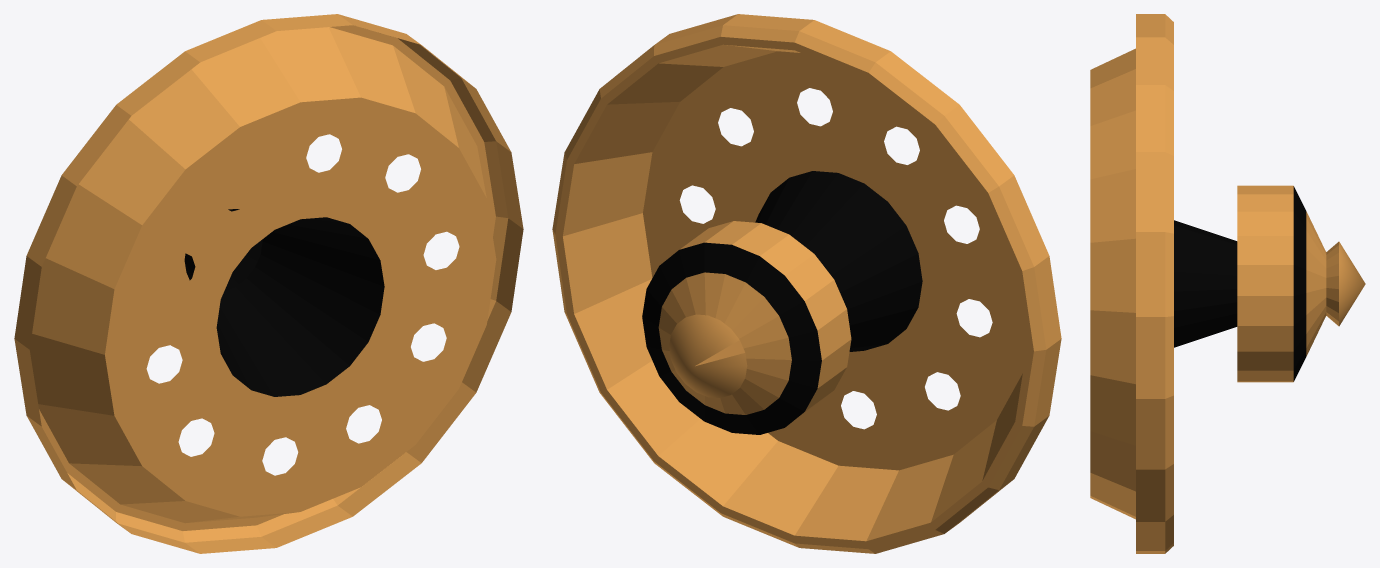
File: Ring7.fbx
The picture shows the model from 3 angles, left to right: view 1: azimuth 30°, elevation 25°; view 2: azimuth 150°, elevation 25°; view 3: azimuth 270°, elevation 25°; orthographic projection. The views are drawn at different scales.
Visible parts, largest first — view 1: polySurface14; view 2: polySurface14; view 3: polySurface14.
Boxes of the visible parts, x1=… form: polySurface14: x1=14, y1=14, x2=523, y2=553; polySurface14: x1=552, y1=14, x2=1061, y2=553; polySurface14: x1=1090, y1=14, x2=1365, y2=553.
Bounding box in the file's own units: 0.0291 × 0.0291 × 0.0148.
